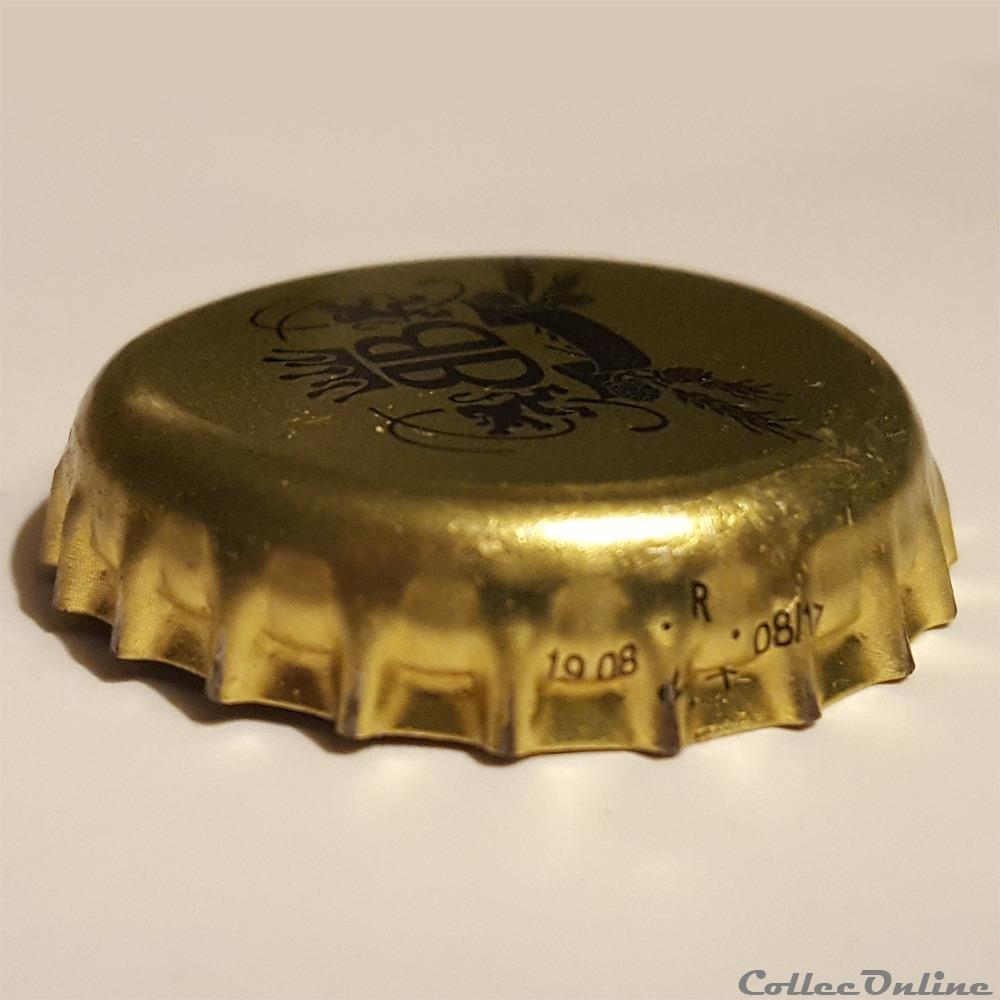metal: (42, 257, 959, 758)
